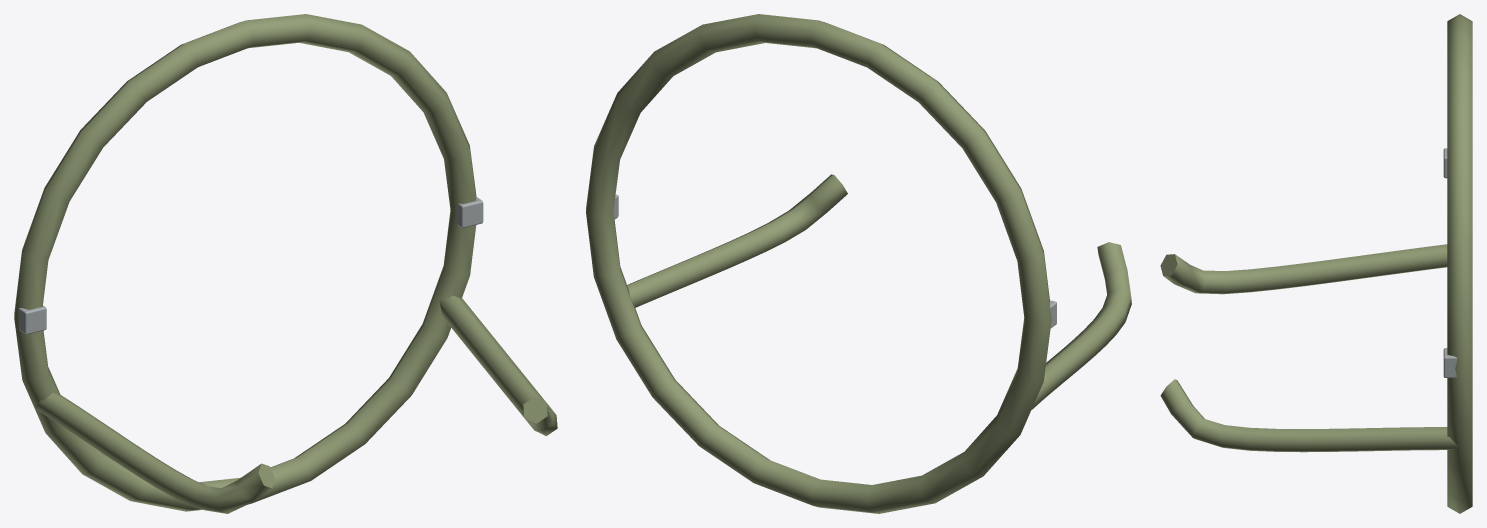
File: creature-husbandry-and-transport-breeching-harness-0591739a__24016.glb
3 views of the same model, side by side, from view 1: azimuth 30°, elevation 25°; view 2: azimuth 150°, elevation 25°; view 3: azimuth 270°, elevation 25° (orthographic). The views are drawn at different scales.
Parts seen in each view (by area): view 1: breeching-harness; view 2: breeching-harness; view 3: breeching-harness.
Part boxes in pixels (x1,y1,x2,y2): breeching-harness: [14, 14, 557, 513]; breeching-harness: [586, 14, 1131, 513]; breeching-harness: [1160, 14, 1472, 513].
Size of the model in its own units: 1.38 by 1.38 by 0.8582.
